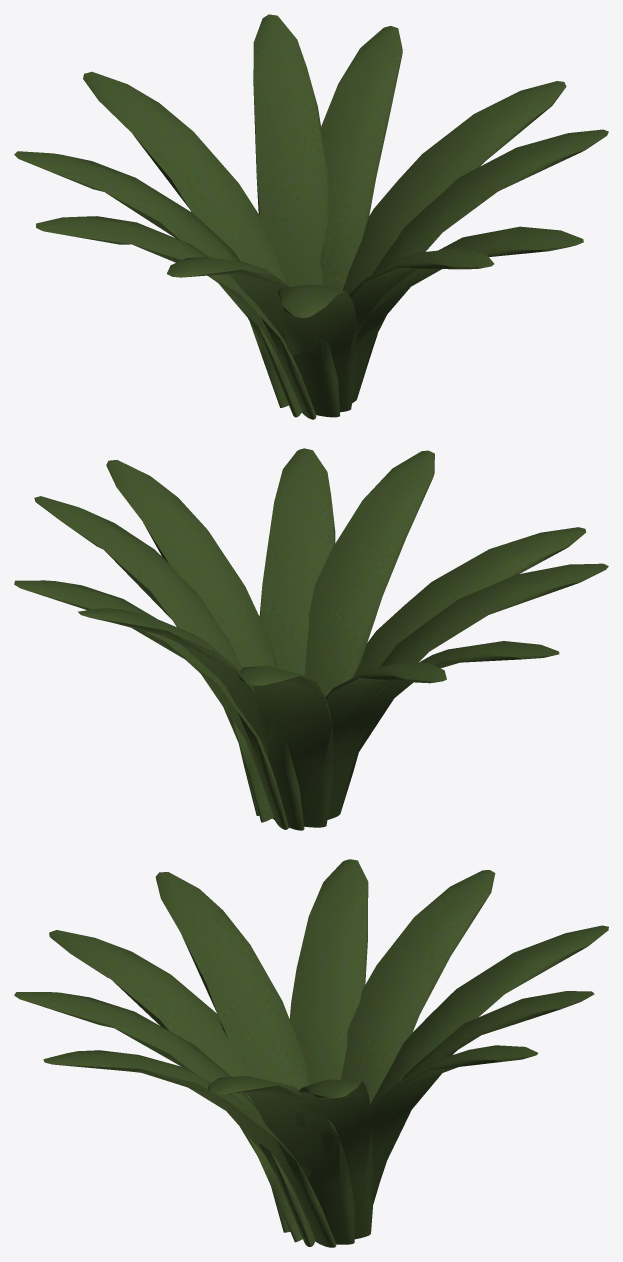
The model's file is grass1.fbx.
The picture shows the model from 3 angles, top to bottom: view 1: azimuth 30°, elevation 25°; view 2: azimuth 150°, elevation 25°; view 3: azimuth 270°, elevation 25°; orthographic projection. The views are drawn at different scales.
Parts seen in each view (by area): view 1: grass1_1; view 2: grass1_1; view 3: grass1_1.
Boxes of the visible parts, x1,y1,x2,y2 form: grass1_1: [14, 14, 608, 419]; grass1_1: [14, 448, 608, 830]; grass1_1: [14, 859, 608, 1247].
Size of the model in its own units: 604 by 304 by 580.
Materials: 1 (1 with a texture image).
